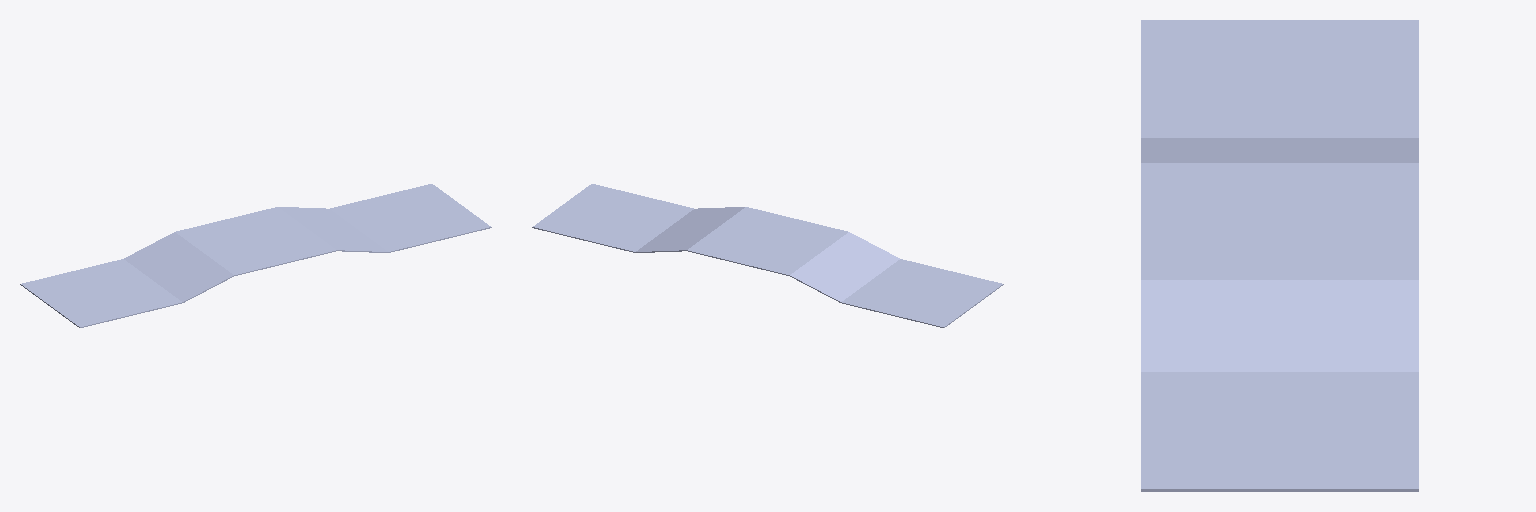
URDF robot description (slope_way):
<robot
  name="slope_way">
  <link
    name="slope_way">
    <inertial>
      <origin
        xyz="2 -0.5 0.045343"
        rpy="0 0 0" />
      <mass
        value="40.353" />
      <inertia
        ixx="3.50199774244881"
        ixy="2.23740097125781E-15"
        ixz="-1.23091675709661E-15"
        iyy="53.6780305335118"
        iyz="3.05351874670857E-16"
        izz="56.9014930917464" />
    </inertial>
    <visual>
      <origin
        xyz="0 0 0"
        rpy="1.5707963267949 0 0" />
      <geometry>
        <mesh
          filename="package://slope_way/meshes/slope_way.STL" />
      </geometry>
      <material
        name="">
        <color
          rgba="0.79216 0.81961 0.93333 1" />
      </material>
    </visual>
    <collision>
      <origin
        xyz="0 0 0"
        rpy="1.5707963267949 0 0" />
      <geometry>
        <mesh
          filename="package://slope_way/meshes/slope_way.STL" />
      </geometry>
    </collision>
  </link>
</robot>

--- What the picture shows (computed from the rendered views, not written in the file) ---
3 views of the same robot in one strip: view 1: azimuth 30°, elevation 25°; view 2: azimuth 150°, elevation 25°; view 3: azimuth 270°, elevation 25° (orthographic).
Model slope_way with 1 links and 0 joints (none), rooted at slope_way, posed every joint at zero.
Visible links, largest first — view 1: slope_way; view 2: slope_way; view 3: slope_way.
Boxes of the visible links, x1,y1,x2,y2 form: slope_way: (20,184,491,327); slope_way: (532,184,1003,327); slope_way: (1141,20,1418,491).
Bounding box of the posed robot: 4 × 1 × 0.144 m (x, y, z).
Meshes: 1 distinct files referenced, 1 mesh visuals loaded (1 binary STL).